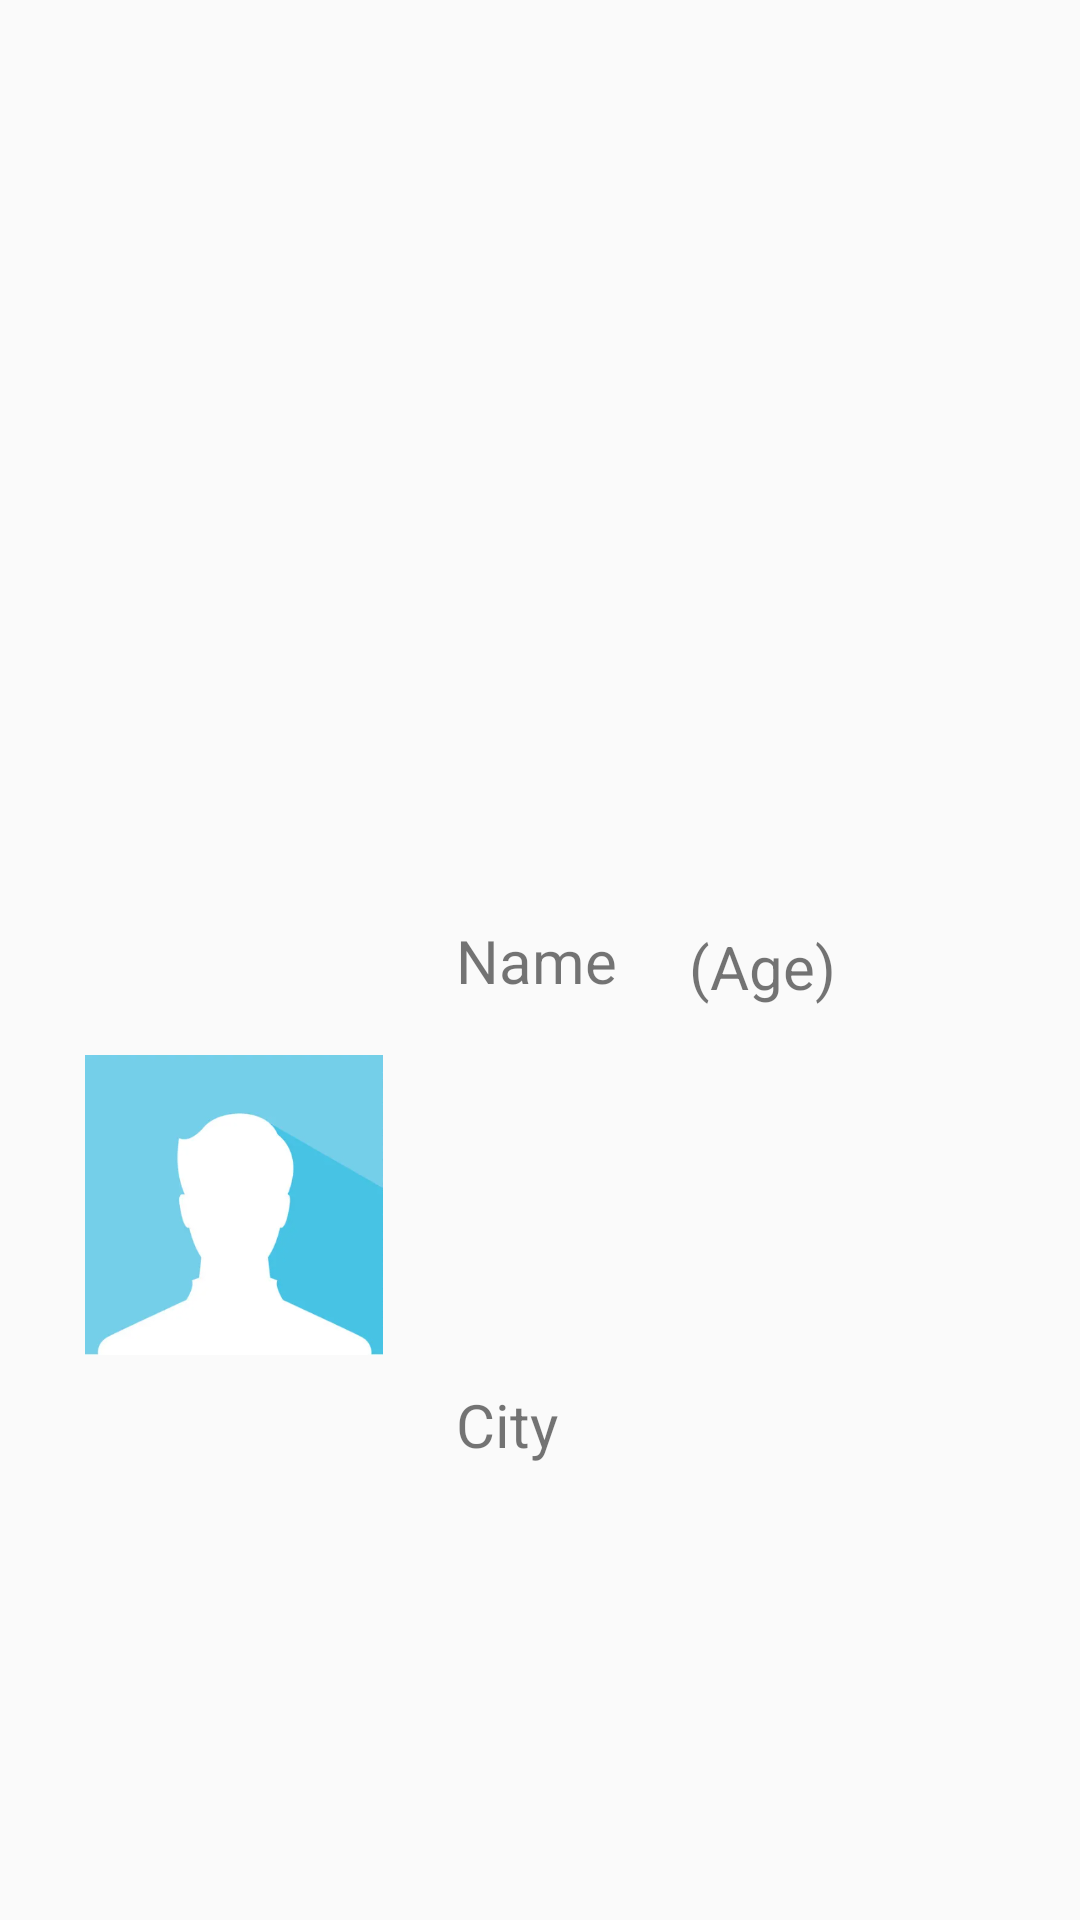

Screen size 1080px x 1920px. Icon name, then its center in pixels as point (x, y):
maleavatar: point (234, 1205)
